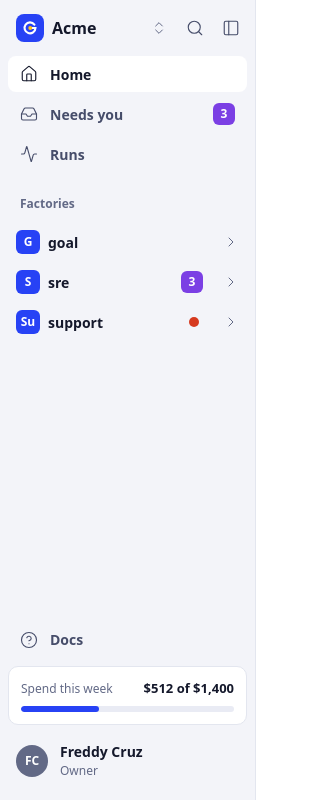
the collapsed rail › expands the rail into search with Command K
Click the button named "Collapse sidebar" at {"x": 231, "y": 28}, box [215, 12, 247, 44]
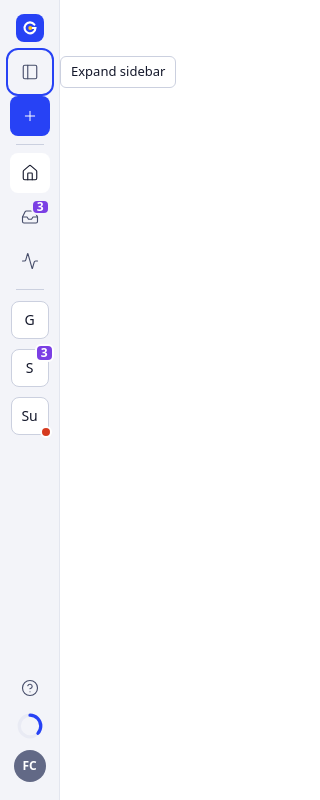
Press k
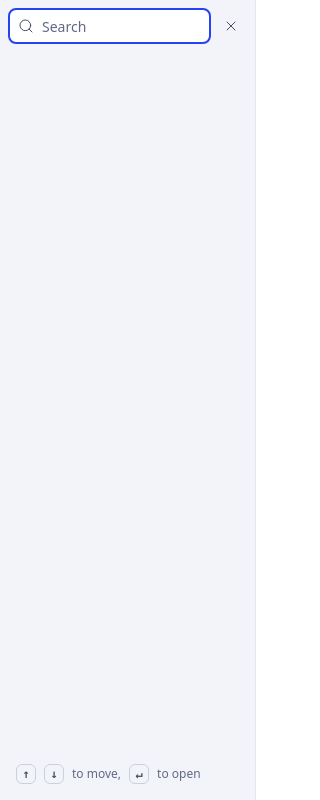
Expected: the dropdown labelled "Search" is shown, [42, 16, 201, 36]
Expected: the tooltip "Expand sidebar" is gone
